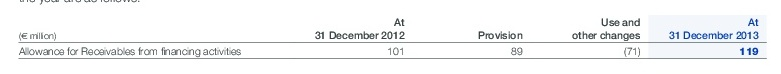table: (0, 0, 781, 74)
